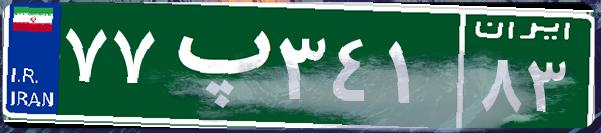1: (385, 28, 445, 110)
3: (273, 28, 330, 110), (525, 38, 570, 115)
4: (330, 28, 385, 110)
7: (57, 26, 110, 107), (110, 28, 158, 105)
8: (475, 38, 525, 113)
پ: (158, 15, 273, 115)
